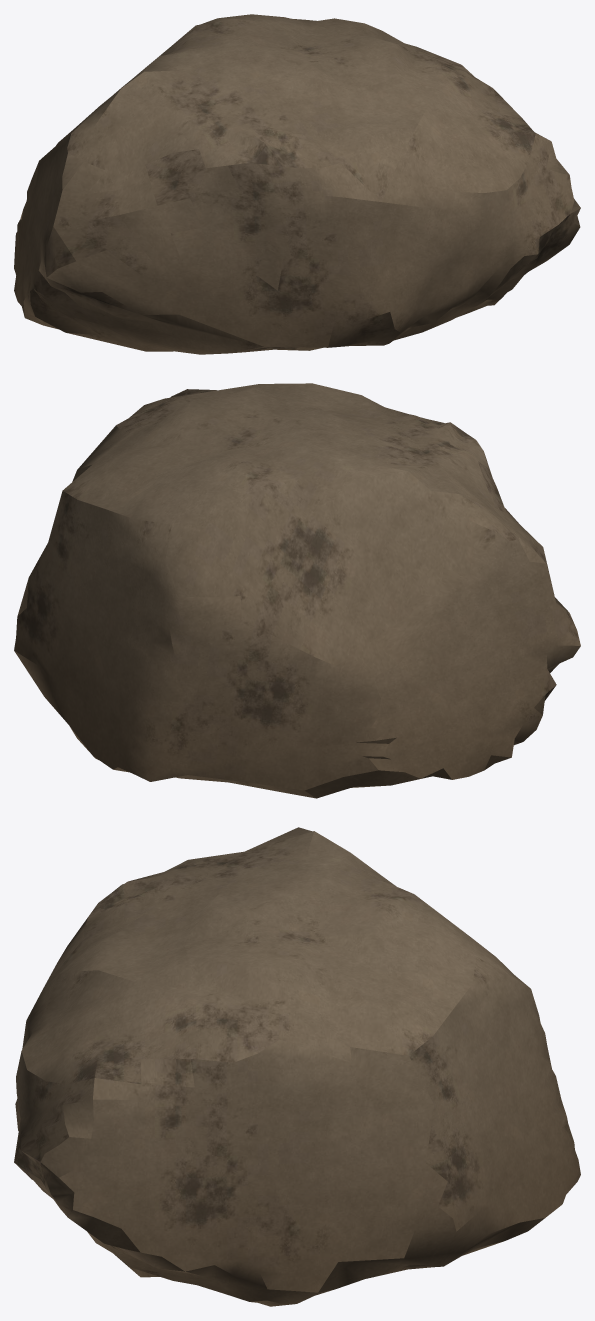
Rendered from prop_boulder1.glb.
The picture shows the model from 3 angles, top to bottom: view 1: azimuth 30°, elevation 25°; view 2: azimuth 150°, elevation 25°; view 3: azimuth 270°, elevation 25°; orthographic projection. The views are drawn at different scales.
Visible parts, largest first — view 1: BoulderMesh; view 2: BoulderMesh; view 3: BoulderMesh.
Boxes of the visible parts, bbox=[...] form: BoulderMesh: bbox=[14, 14, 580, 354]; BoulderMesh: bbox=[14, 383, 580, 798]; BoulderMesh: bbox=[14, 827, 580, 1306].
Bounding box in the file's own units: 1.9 × 1.07 × 1.72.
1 material, 1 textured.
